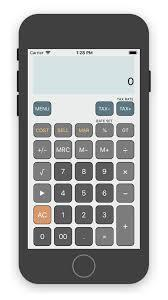Calculator: (21, 91, 143, 255)
